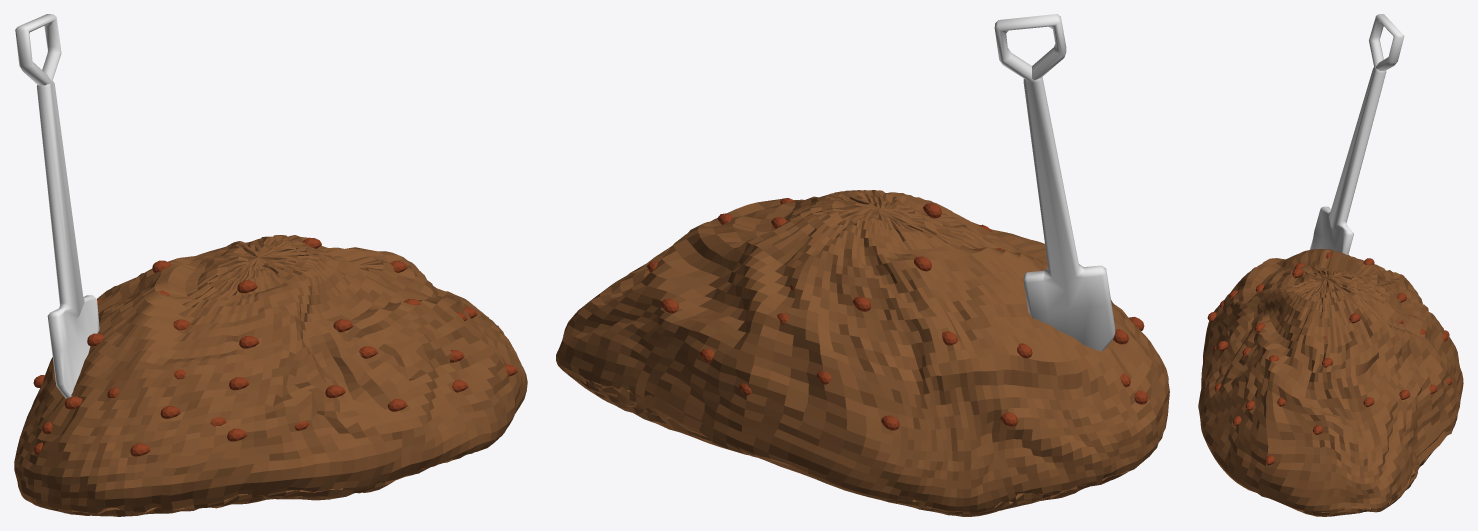
File: DirtPile.fbx
The picture shows the model from 3 angles, left to right: view 1: azimuth 30°, elevation 25°; view 2: azimuth 150°, elevation 25°; view 3: azimuth 270°, elevation 25°; orthographic projection. The views are drawn at different scales.
Parts seen in each view (by area): view 1: DirtPile; view 2: DirtPile; view 3: DirtPile.
Part boxes in pixels (box(x1,y1,x2,y2)): DirtPile: box(14, 14, 527, 516); DirtPile: box(556, 14, 1169, 516); DirtPile: box(1198, 14, 1463, 516).
Bounding box in the file's own units: 346 × 207 × 305.
